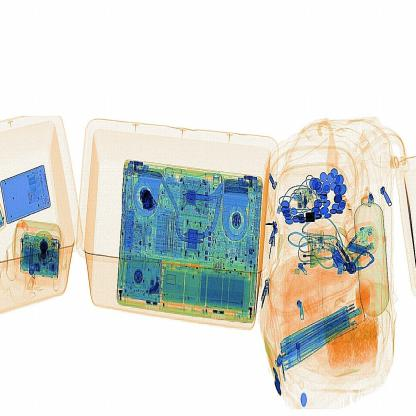scissors: (140, 184, 162, 216)
